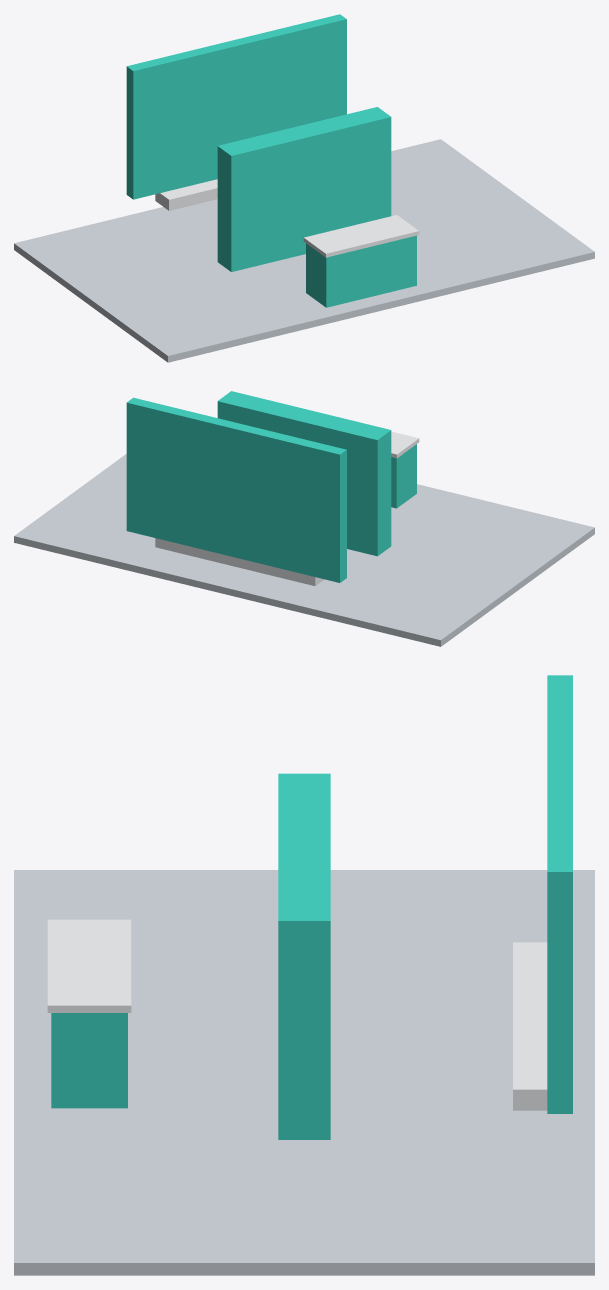
3 views of the same model, one above another, from view 1: azimuth 30°, elevation 25°; view 2: azimuth 150°, elevation 25°; view 3: azimuth 270°, elevation 25° (orthographic). The views are drawn at different scales.
Visible parts, largest first — view 1: Exhibition Booth Concept; view 2: Exhibition Booth Concept; view 3: Exhibition Booth Concept.
Boxes of the visible parts, bbox=[...] form: Exhibition Booth Concept: bbox=[14, 14, 594, 362]; Exhibition Booth Concept: bbox=[14, 391, 594, 646]; Exhibition Booth Concept: bbox=[14, 675, 594, 1275].
Bounding box in the file's own units: 8 × 2.9 × 5.
